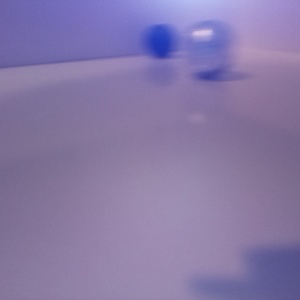alive_ball: (181, 21, 235, 74)
dead_ball: (144, 24, 176, 55)
